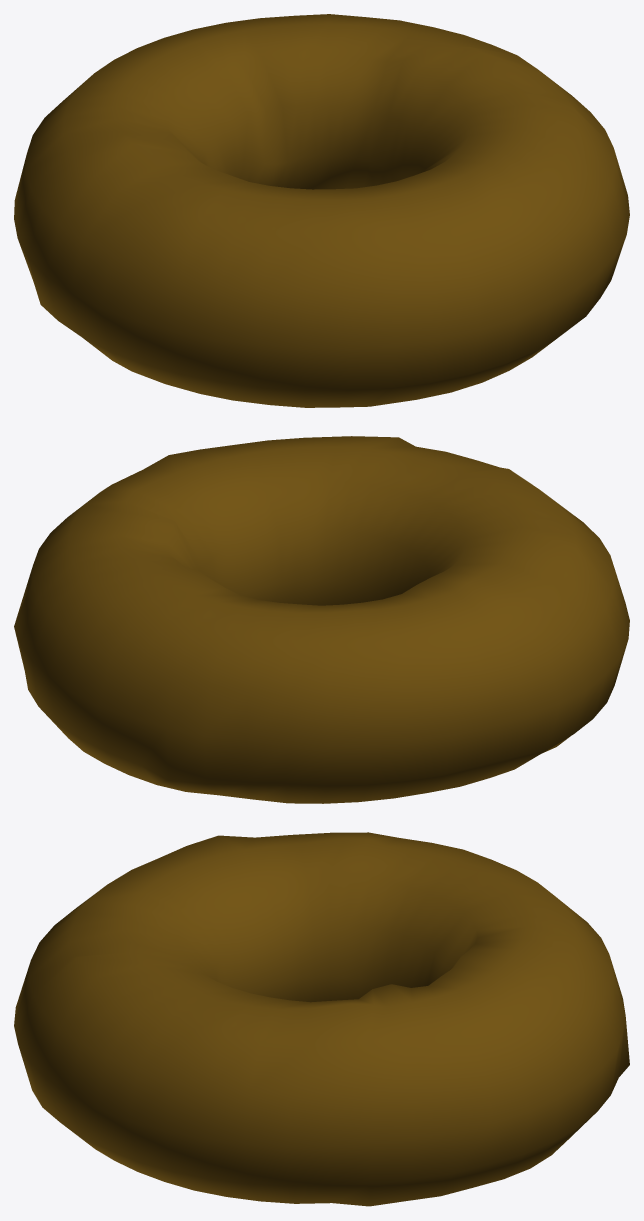
File: donut.fbx
3 renders of one model, top to bottom at view 1: azimuth 30°, elevation 25°; view 2: azimuth 150°, elevation 25°; view 3: azimuth 270°, elevation 25°, orthographic. The views are drawn at different scales.
Parts seen in each view (by area): view 1: Torus.003; view 2: Torus.003; view 3: Torus.003.
Boxes of the visible parts, left/top/right/bottom form: Torus.003: left=14, top=14, right=629, bottom=407; Torus.003: left=14, top=436, right=629, bottom=803; Torus.003: left=14, top=832, right=629, bottom=1206.
Bounding box in the file's own units: 11.12 × 3.99 × 11.23.
